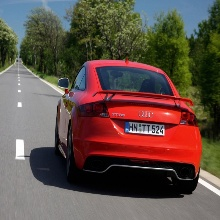no damage: (54, 58, 203, 195)
